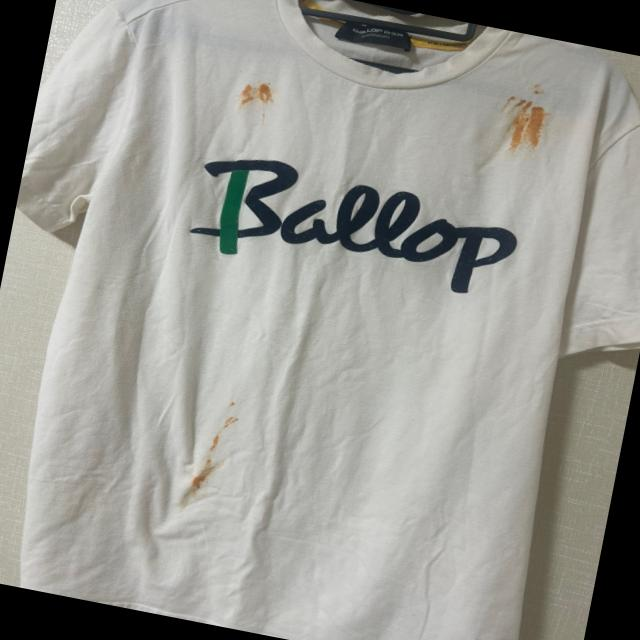stain: (496, 100, 556, 154), (212, 398, 242, 454), (188, 456, 223, 500), (238, 77, 280, 110), (507, 95, 532, 113), (530, 80, 550, 99)
